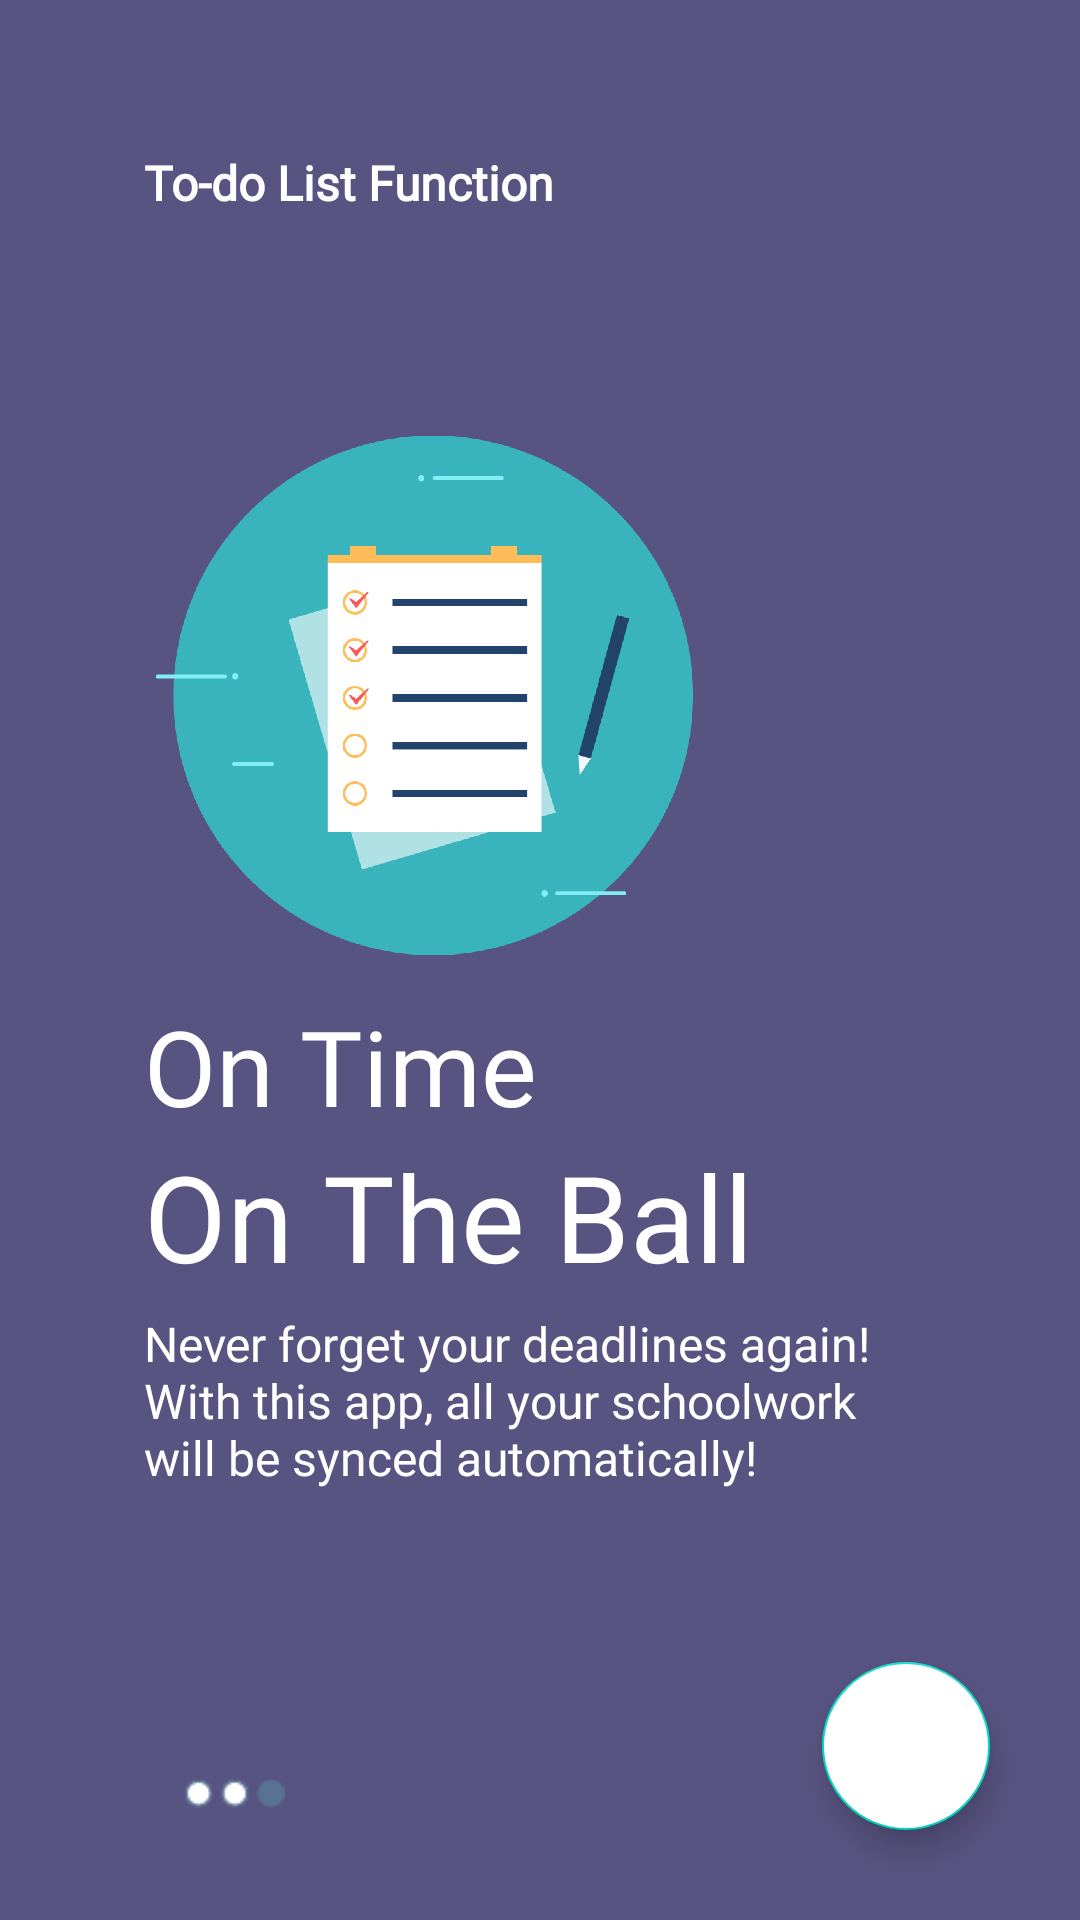

Locate icon controls on the screen. Image size 1080 × 1920, boxes as (x1, y1, x2, y2).
tab: (186, 1781, 285, 1807)
